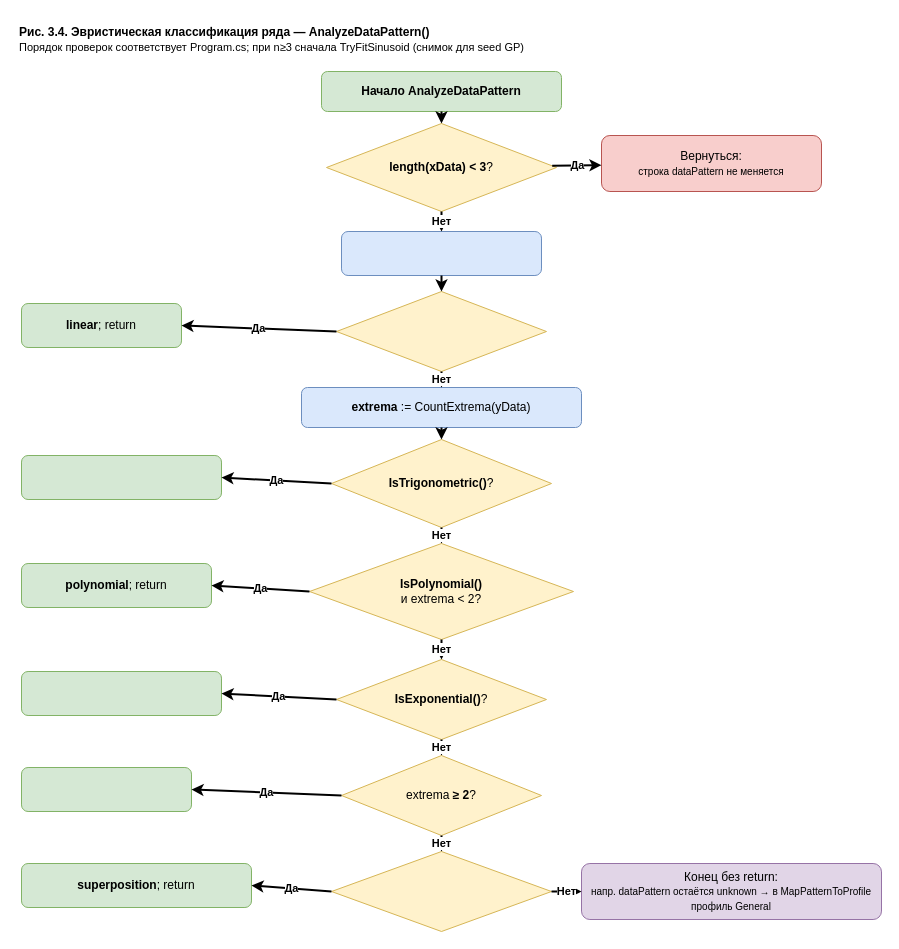
Some shapes in this 899 by 949 pixel diagram are drawn without their labels. The shapes that lost their labels are listed below. From the top down, each one's box as (x1, y1, x2, y2) in pixels, then its label:
(340, 230, 542, 276): TryFitSinusoid
(336, 290, 546, 372): IsLinear() ?
(20, 454, 222, 500): trigonometric ; return
(20, 670, 222, 716): exponential ; return
(20, 766, 192, 812): general ; return
(330, 850, 552, 932): IsSuperposition() ?
